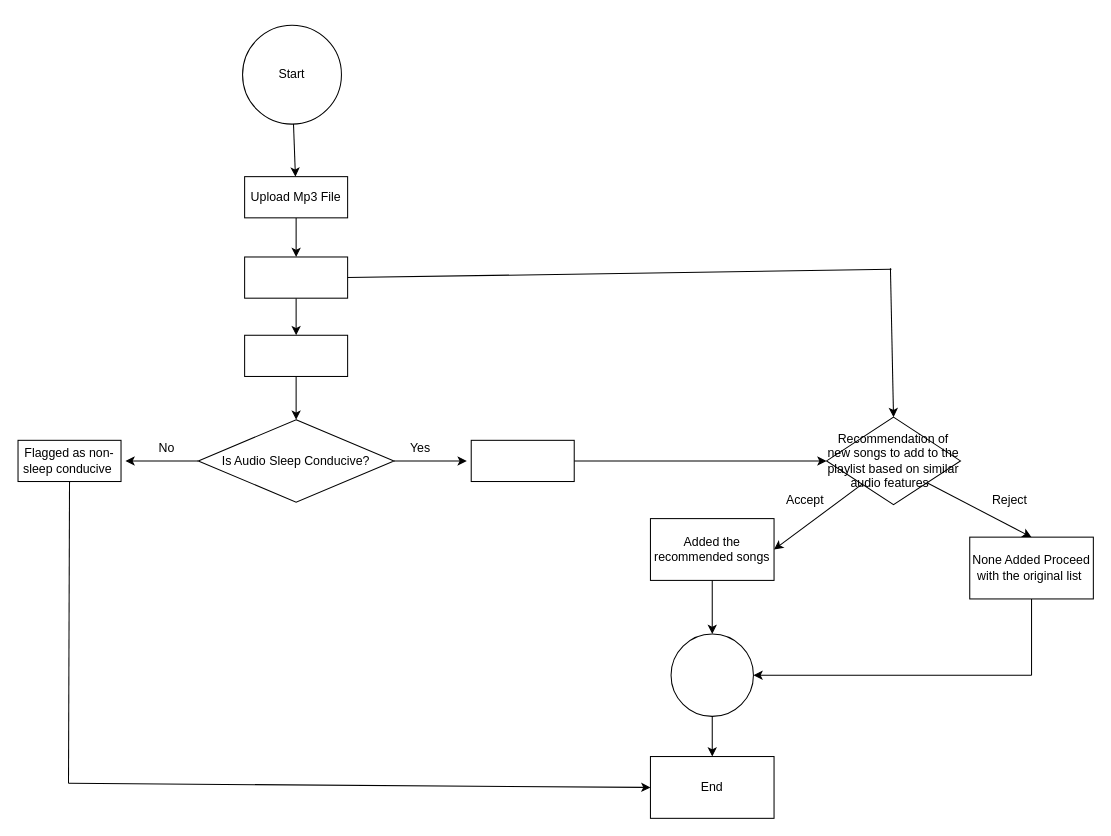
This 1111x836 diagram has some shape labels left out. Here are the shapes that lost their labels. From the top down, the centre of each, then its label:
point (296, 277): Apply STFT and MFCC
point (296, 355): Generate Spectrogram
point (522, 460): Add to Sleep Conducive Playlist
point (711, 674): Generate Playlist
